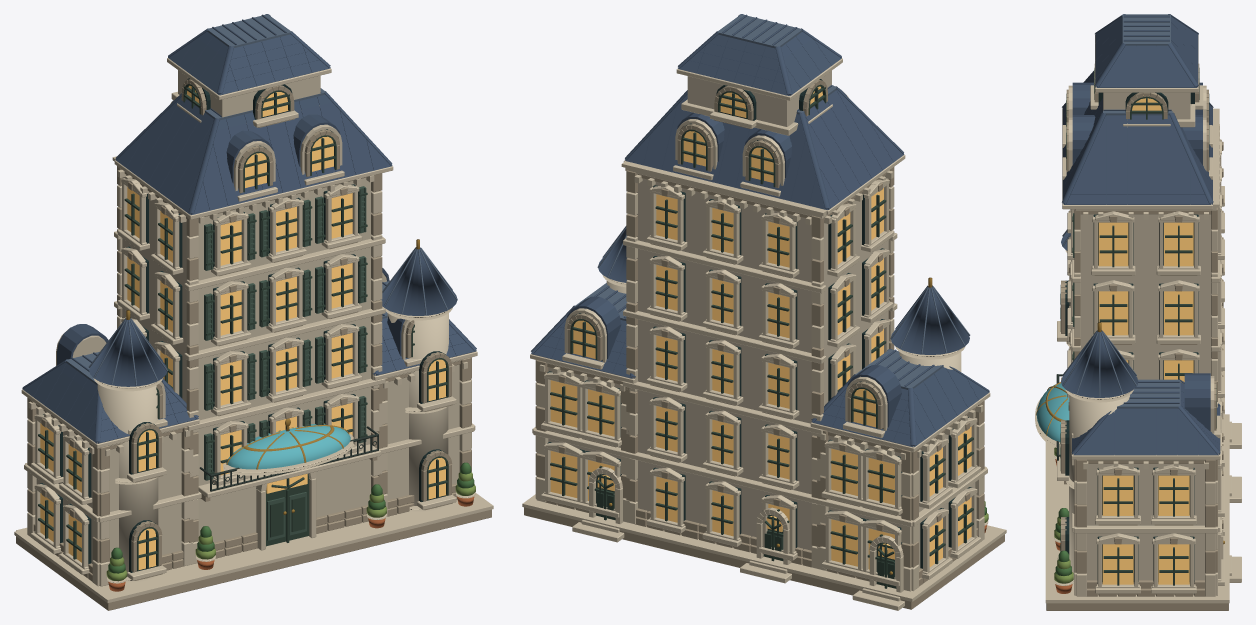
The picture shows the model from 3 angles, left to right: view 1: azimuth 30°, elevation 25°; view 2: azimuth 150°, elevation 25°; view 3: azimuth 270°, elevation 25°; orthographic projection. The views are drawn at different scales.
Visible parts, largest first — view 1: classic_skyscraper_3_geometry, classic_skyscraper_3_geometry ceramic; view 2: classic_skyscraper_3_geometry, classic_skyscraper_3_geometry ceramic; view 3: classic_skyscraper_3_geometry, classic_skyscraper_3_geometry ceramic.
Boxes of the visible parts, x1,y1,x2,y2 form: classic_skyscraper_3_geometry: (14,58,493,610); classic_skyscraper_3_geometry ceramic: (22,14,476,443); classic_skyscraper_3_geometry: (522,58,1006,610); classic_skyscraper_3_geometry ceramic: (531,14,989,447); classic_skyscraper_3_geometry: (1035,35,1241,610); classic_skyscraper_3_geometry ceramic: (1061,14,1220,455).
Size of the model in its own units: 2.11 by 2.6 by 0.9931.
